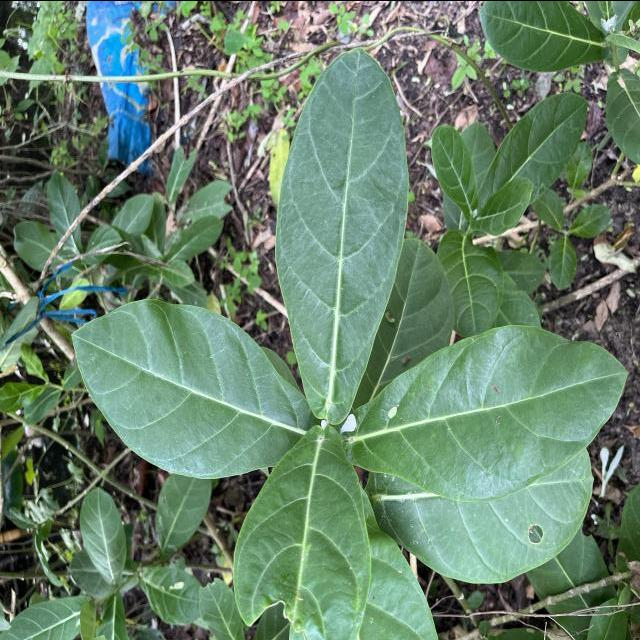Calotropis gigantea: (272, 44, 410, 428), (344, 322, 632, 504), (68, 296, 312, 480), (362, 448, 596, 585), (476, 90, 590, 209), (477, 1, 612, 74), (154, 472, 212, 562), (78, 486, 128, 586), (138, 565, 204, 626)
